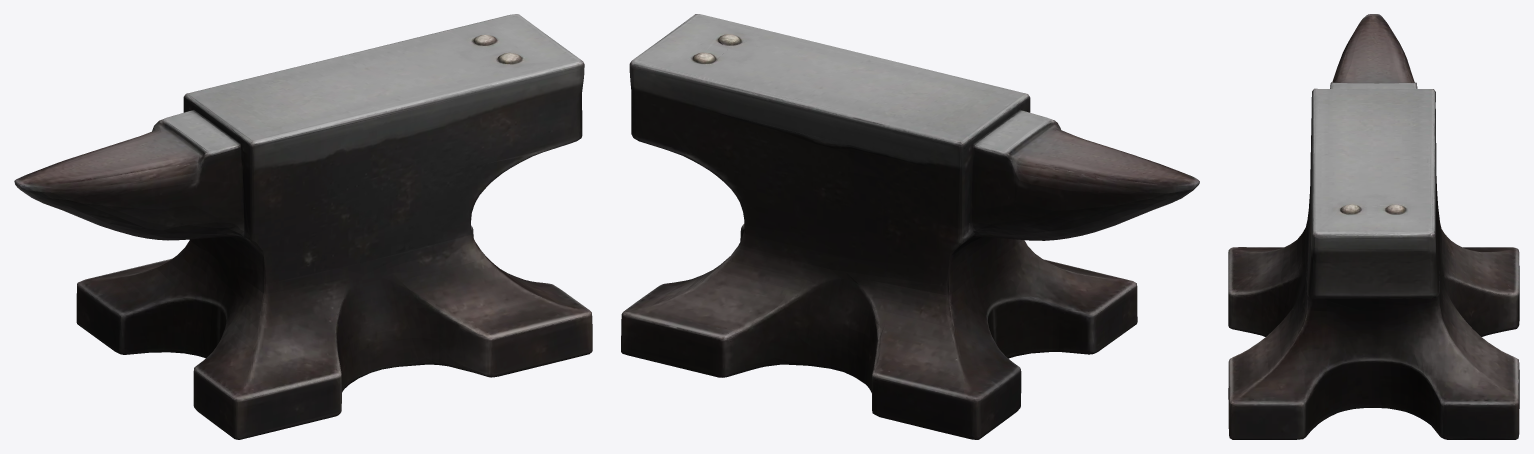
File: anvil.glb
3 renders of one model, left to right at view 1: azimuth 30°, elevation 25°; view 2: azimuth 150°, elevation 25°; view 3: azimuth 270°, elevation 25°, orthographic. The views are drawn at different scales.
Parts seen in each view (by area): view 1: geometry_0; view 2: geometry_0; view 3: geometry_0.
Part boxes in pixels (x1=…): geometry_0: x1=14, y1=14, x2=592, y2=439; geometry_0: x1=621, y1=14, x2=1199, y2=439; geometry_0: x1=1228, y1=14, x2=1519, y2=439.
Size of the model in its own units: 1 by 0.453 by 0.5262.
Materials: 1 (1 with a texture image).
